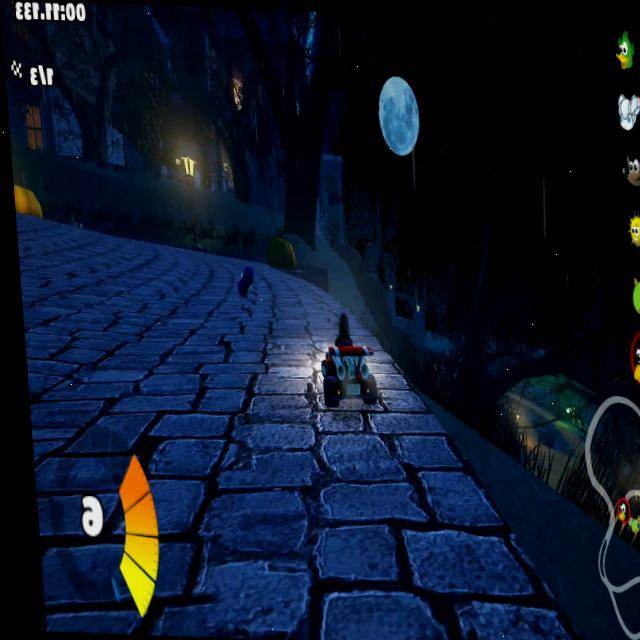nitro: (234, 257, 259, 298)
player_kart: (316, 312, 380, 409)
track: (27, 360, 258, 634), (323, 418, 448, 640), (240, 374, 340, 640), (19, 247, 239, 366), (439, 508, 503, 640), (233, 300, 319, 377), (496, 581, 547, 640), (17, 230, 131, 254), (432, 448, 461, 512), (259, 271, 299, 303), (379, 363, 396, 416), (395, 385, 416, 424), (300, 286, 319, 304), (16, 222, 47, 233)
